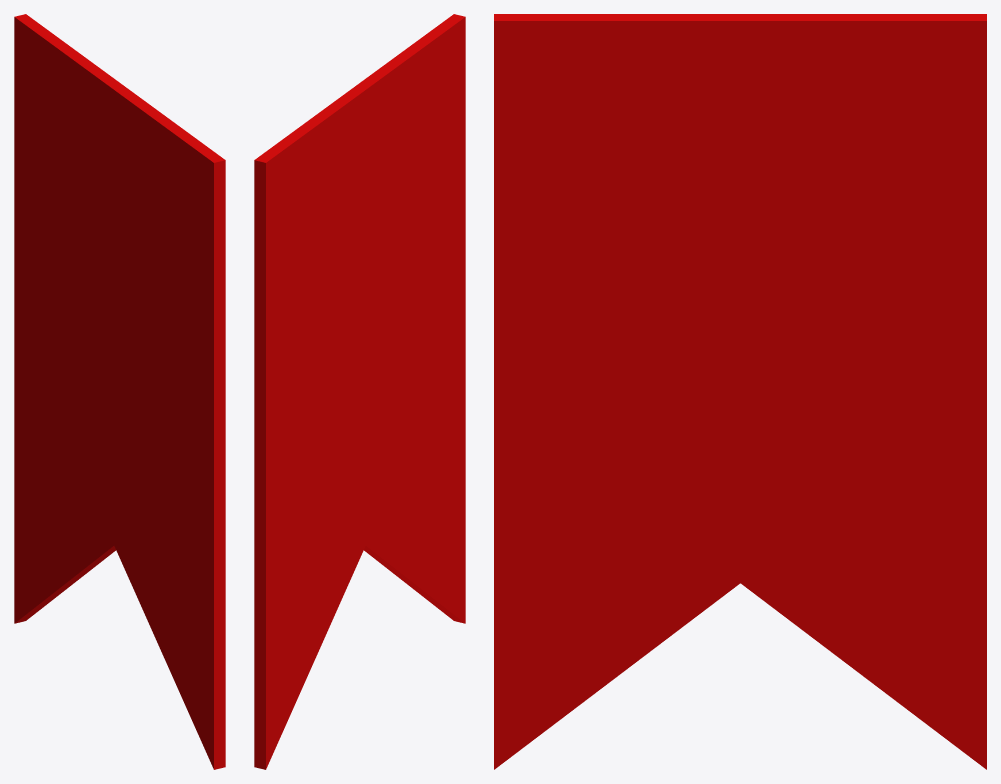
Rendered from VaultCapCollider.fbx.
The picture shows the model from 3 angles, left to right: view 1: azimuth 30°, elevation 25°; view 2: azimuth 150°, elevation 25°; view 3: azimuth 270°, elevation 25°; orthographic projection. The views are drawn at different scales.
Parts seen in each view (by area): view 1: VaultCapCollision; view 2: VaultCapCollision; view 3: VaultCapCollision.
Boxes of the visible parts, x1,y1,x2,y2 form: VaultCapCollision: [14, 14, 225, 769]; VaultCapCollision: [254, 14, 465, 769]; VaultCapCollision: [494, 14, 986, 769].
Bounding box in the file's own units: 10 × 500 × 298.
